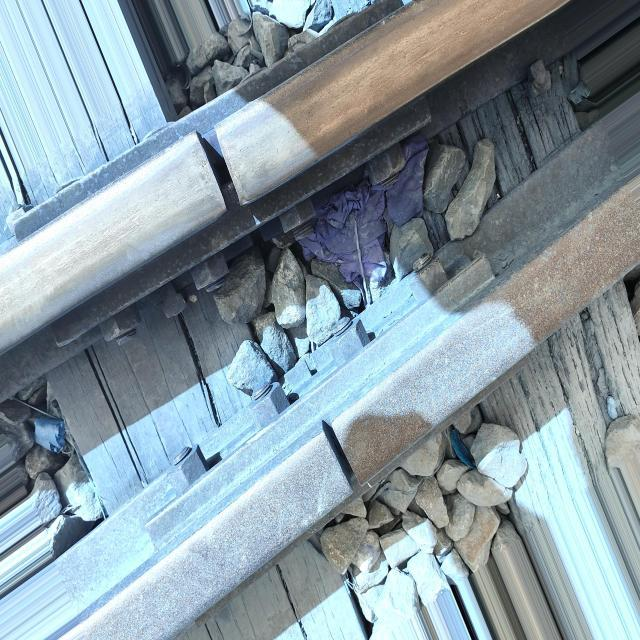Good Joint: (5, 1, 445, 353), (145, 242, 539, 629)
